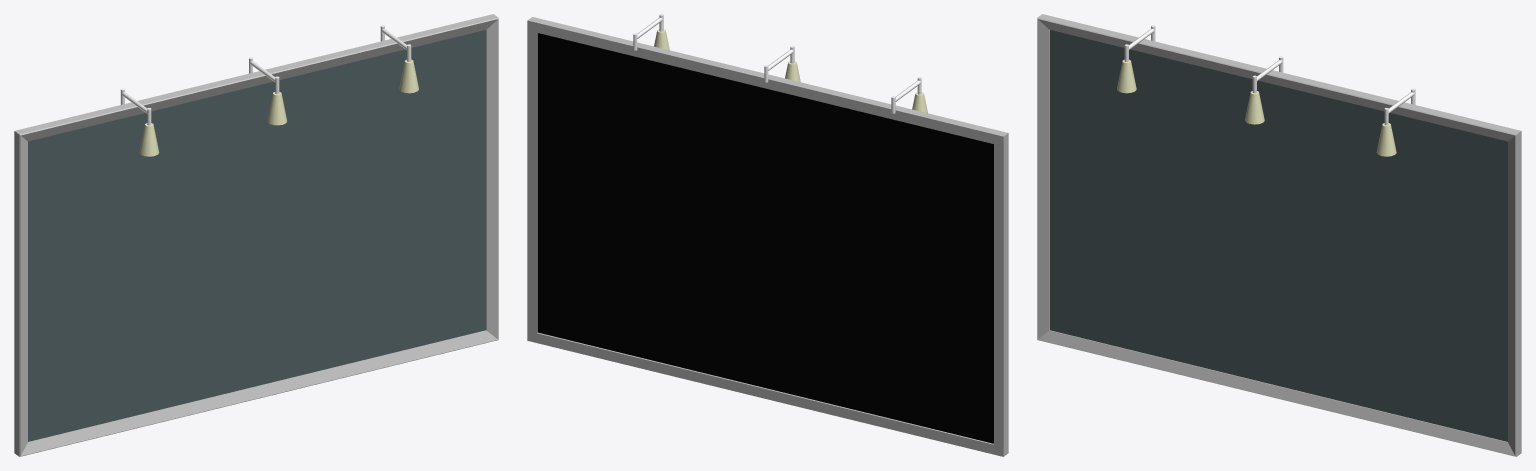
File: Mirror.FBX
3 renders of one model, left to right at view 1: azimuth 30°, elevation 25°; view 2: azimuth 150°, elevation 25°; view 3: azimuth 330°, elevation 25°, orthographic.
Parts seen in each view (by area): view 1: Mirror; view 2: Mirror; view 3: Mirror.
Part boxes in pixels (x1,y1,x2,y2): Mirror: [14, 14, 498, 456]; Mirror: [527, 14, 1008, 456]; Mirror: [1037, 14, 1521, 456].
Bounding box in the file's own units: 126 × 84.5 × 14.78.
